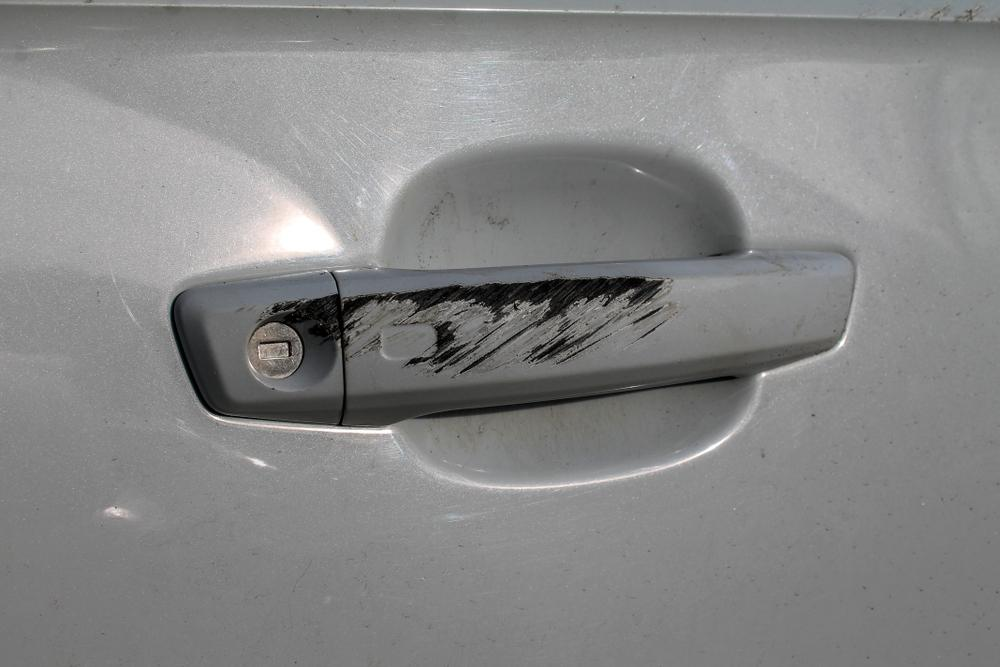scratch: (269, 271, 690, 380)
